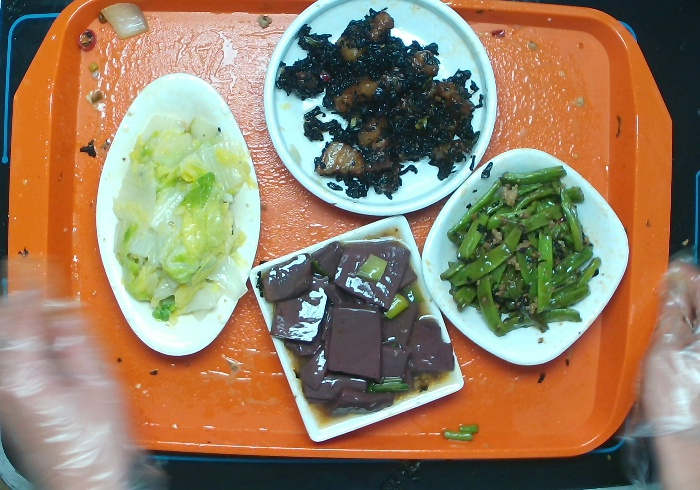HZYJPL-Si_Fang_Die: (247, 214, 467, 446)
HZYJPL-Si_Fang_Yuan_Die: (419, 148, 634, 373)
HZYJPL-Xiao_Yu_Die: (87, 71, 260, 366)
HZYJPL-Xiao_Yuan_Die: (260, 1, 496, 218)
